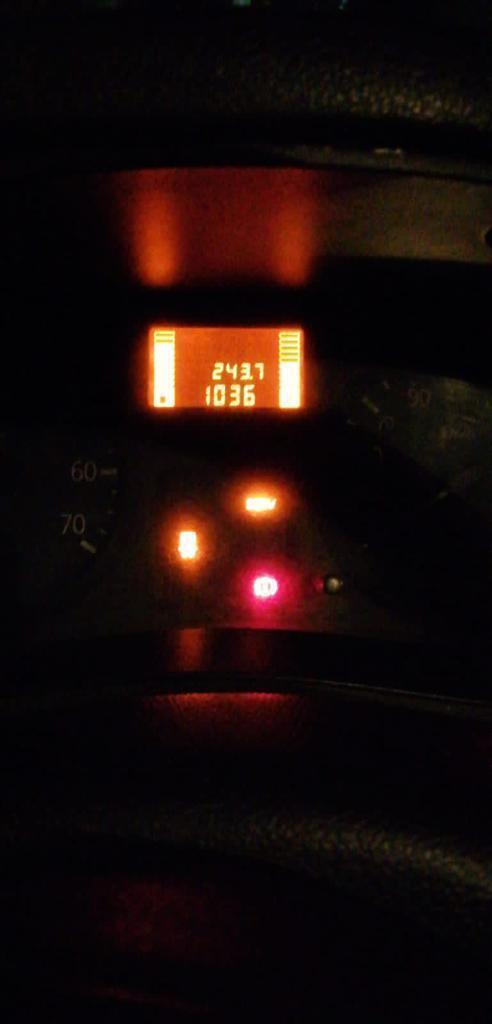,: (249, 376, 254, 380)
0: (212, 383, 226, 406)
1: (202, 383, 211, 406)
2: (212, 361, 224, 380)
3: (227, 382, 241, 406), (238, 361, 251, 380)
4: (225, 362, 238, 379)
6: (242, 383, 256, 407)
7: (254, 360, 264, 381)
odometer: (144, 323, 306, 412)
